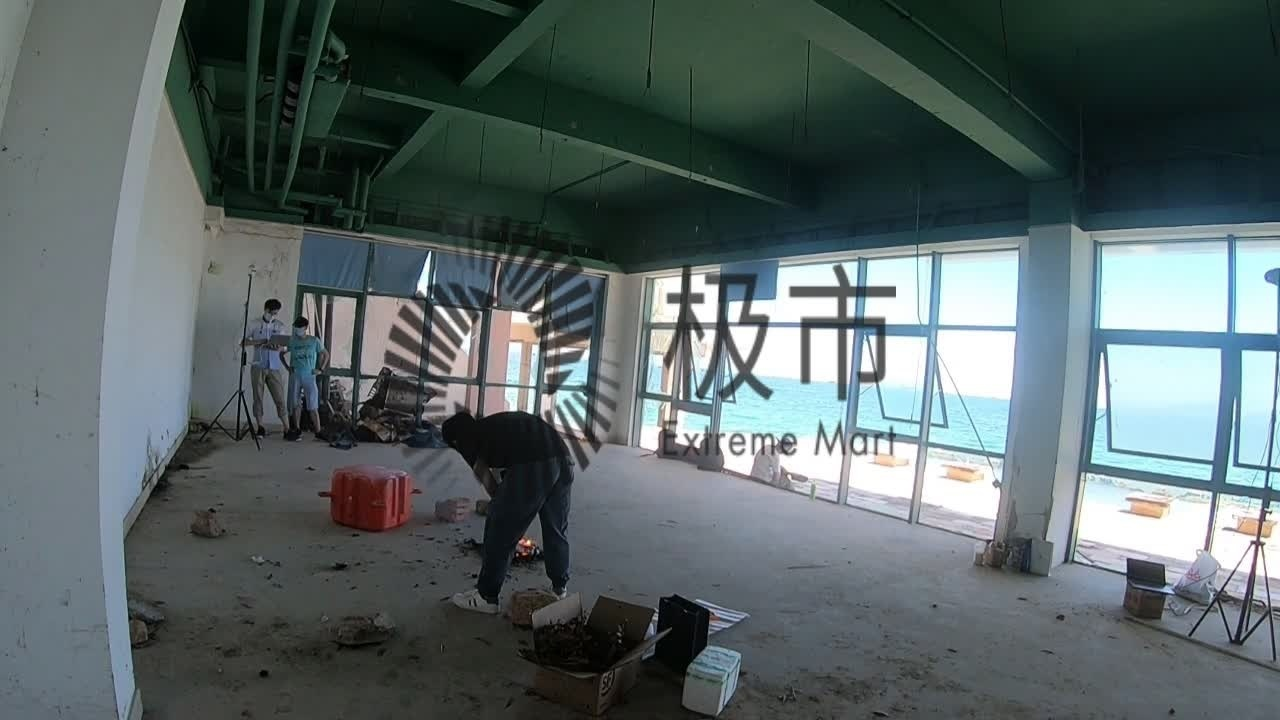fire: (511, 528, 537, 560)
